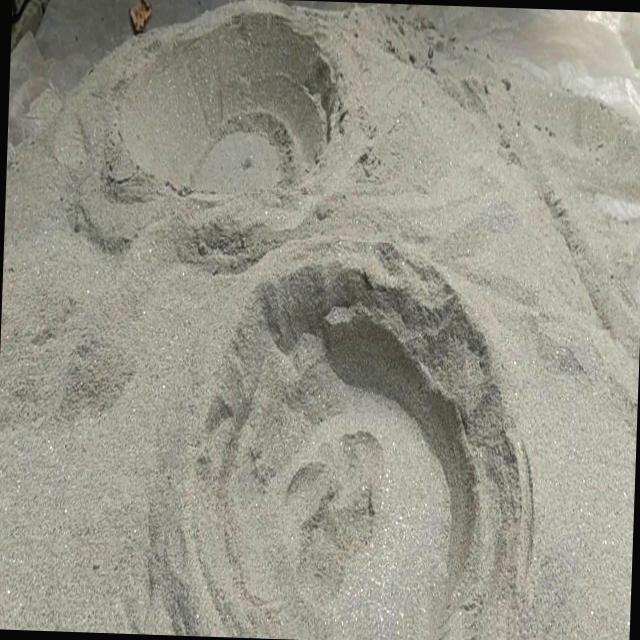C20: (195, 239, 531, 631), (119, 17, 334, 191)
